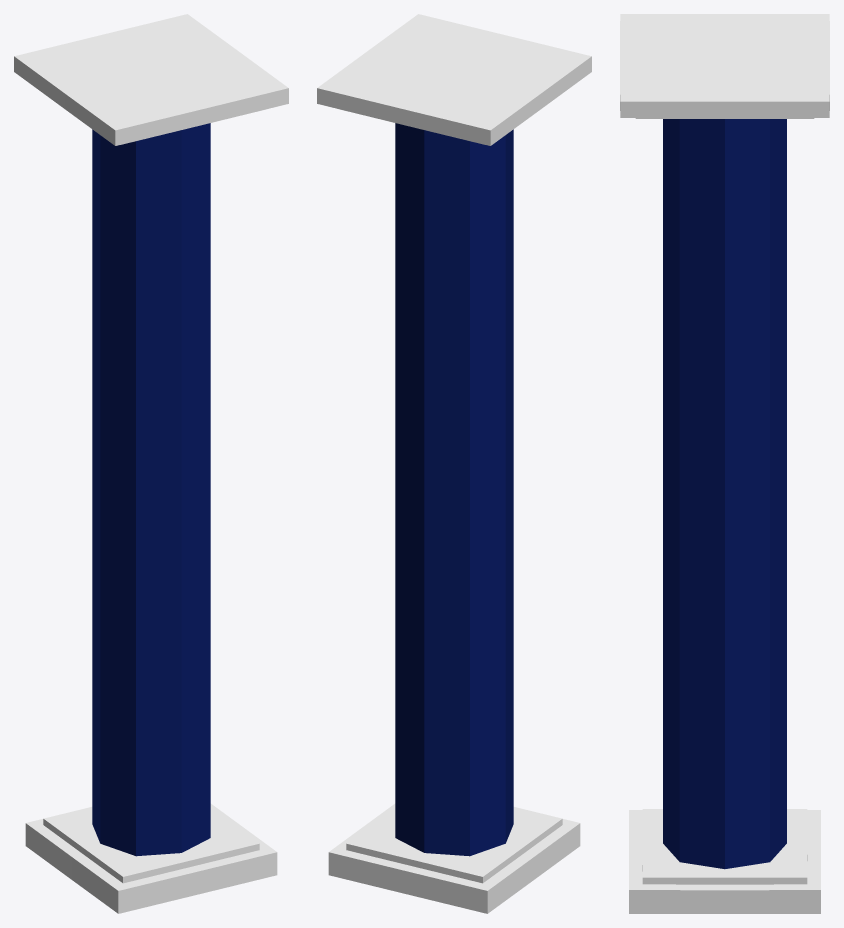
Rendered from Columna_alta.fbx.
3 views of the same model, side by side, from view 1: azimuth 30°, elevation 25°; view 2: azimuth 150°, elevation 25°; view 3: azimuth 270°, elevation 25° (orthographic). The views are drawn at different scales.
Visible parts, largest first — view 1: Box001; view 2: Box001; view 3: Box001.
Boxes of the visible parts, x1,y1,x2,y2 form: Box001: [14, 14, 288, 913]; Box001: [317, 14, 591, 913]; Box001: [620, 14, 829, 913].
Size of the model in its own units: 93.25 by 405 by 94.31.
